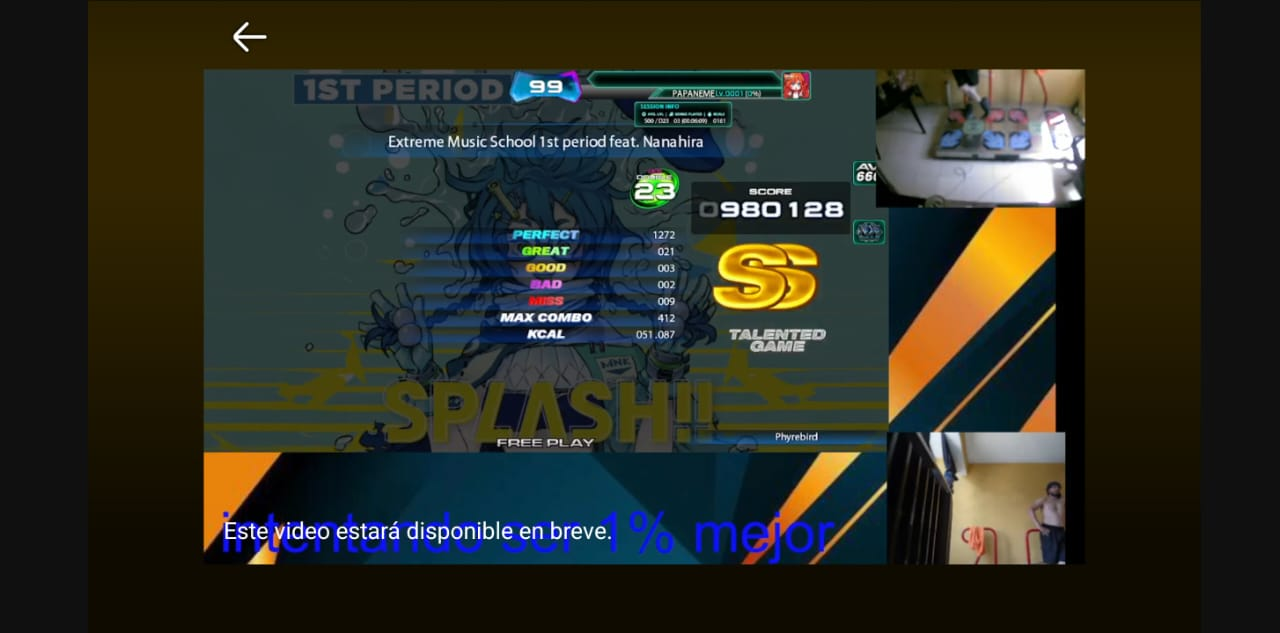difficulty: (619, 167, 681, 212)
fullscore: (498, 69, 890, 449)
rank: (700, 242, 840, 323)
score: (696, 182, 846, 225)
song_name: (378, 119, 764, 161)
